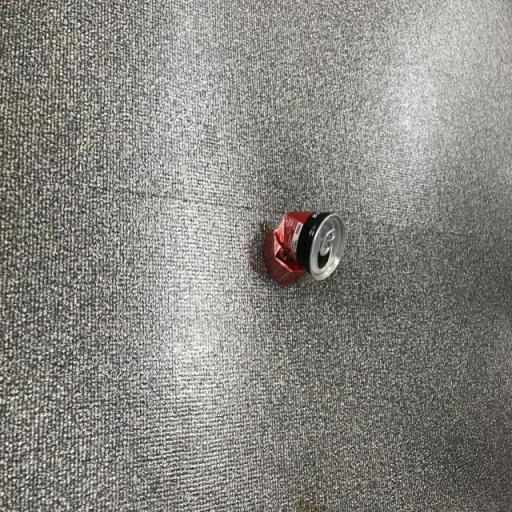metal: (249, 193, 355, 304)
